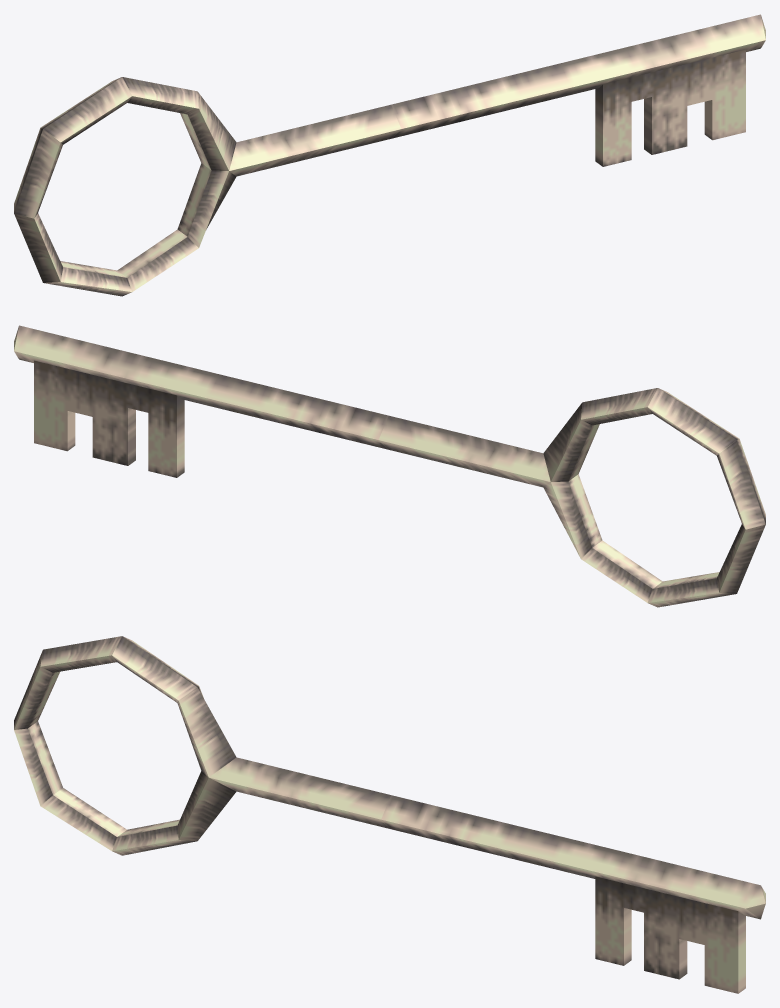
The model's file is kluch_escape.fbx.
The picture shows the model from 3 angles, top to bottom: view 1: azimuth 30°, elevation 25°; view 2: azimuth 150°, elevation 25°; view 3: azimuth 330°, elevation 25°; orthographic projection.
Parts seen in each view (by area): view 1: key10_2; view 2: key10_2; view 3: key10_2.
Part boxes in pixels (x1,y1,x2,y2): key10_2: (14,14,765,296); key10_2: (14,325,765,607); key10_2: (14,636,765,993).
Size of the model in its own units: 19.44 by 5.43 by 0.9105.
1 material, 1 textured.
